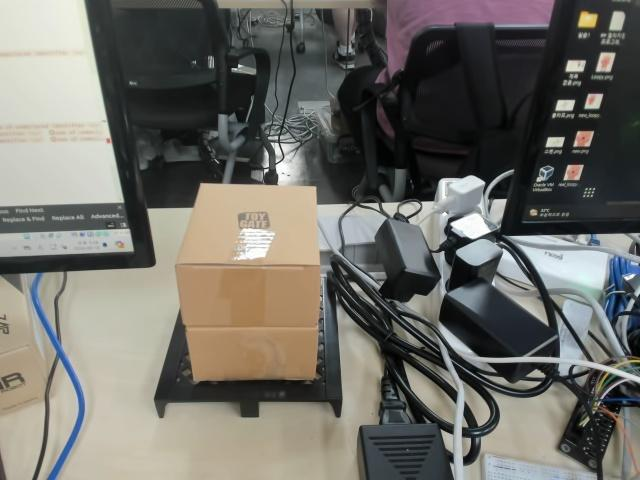box: (153, 183, 345, 420)
